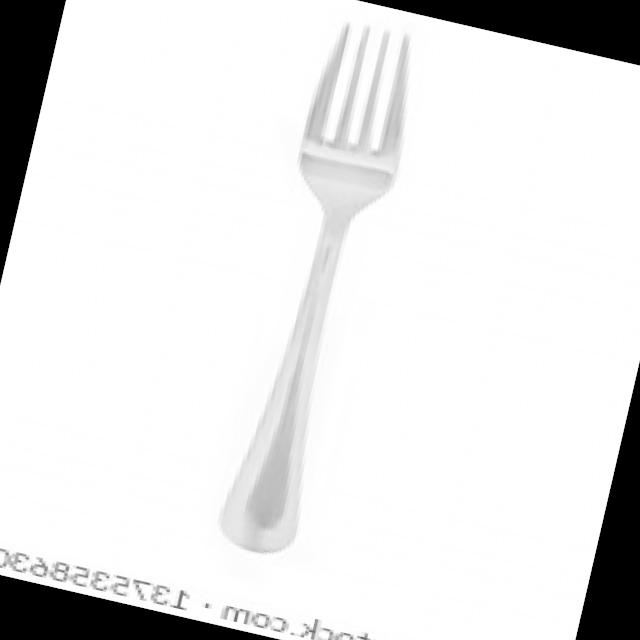fork: (206, 17, 428, 566)
